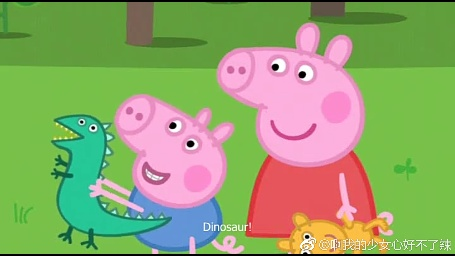Peppa: (217, 22, 397, 237)
